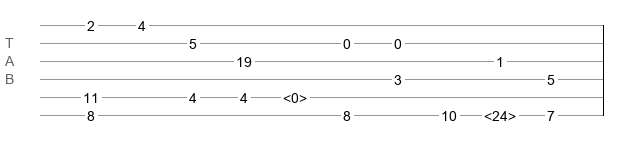0: (343, 36, 351, 46), (394, 36, 402, 46)
1: (496, 54, 504, 64)
10: (441, 108, 457, 118)
11: (83, 90, 99, 100)
19: (236, 54, 252, 64)
2: (87, 18, 95, 28)
3: (394, 72, 402, 82)
4: (138, 18, 146, 28), (189, 90, 197, 100), (240, 90, 248, 100)
5: (189, 36, 197, 46), (547, 72, 555, 82)
7: (547, 108, 555, 118)
8: (87, 108, 95, 118), (343, 108, 351, 118)
harmonic: (484, 108, 516, 118), (283, 90, 307, 100)
